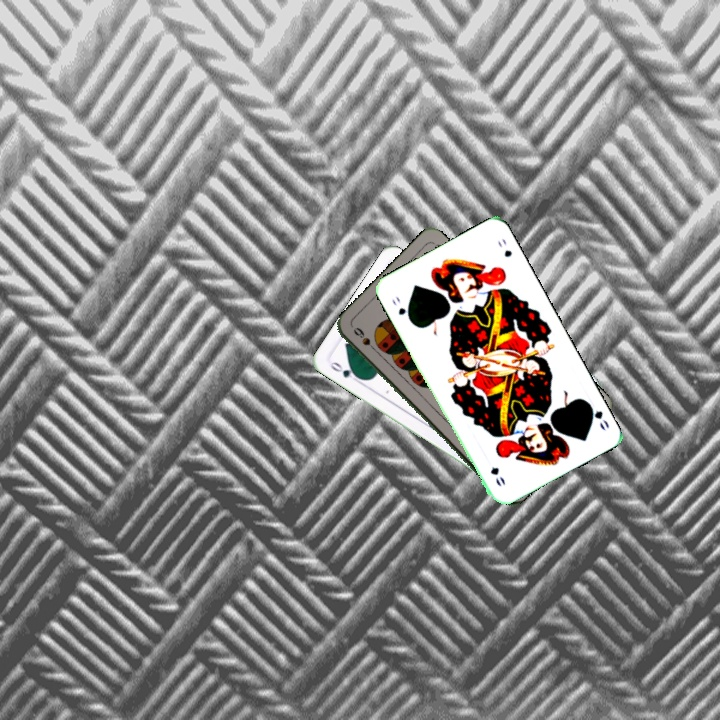GO: (326, 358, 364, 386), (583, 397, 612, 433), (387, 292, 414, 325)
S9: (349, 324, 381, 356)
